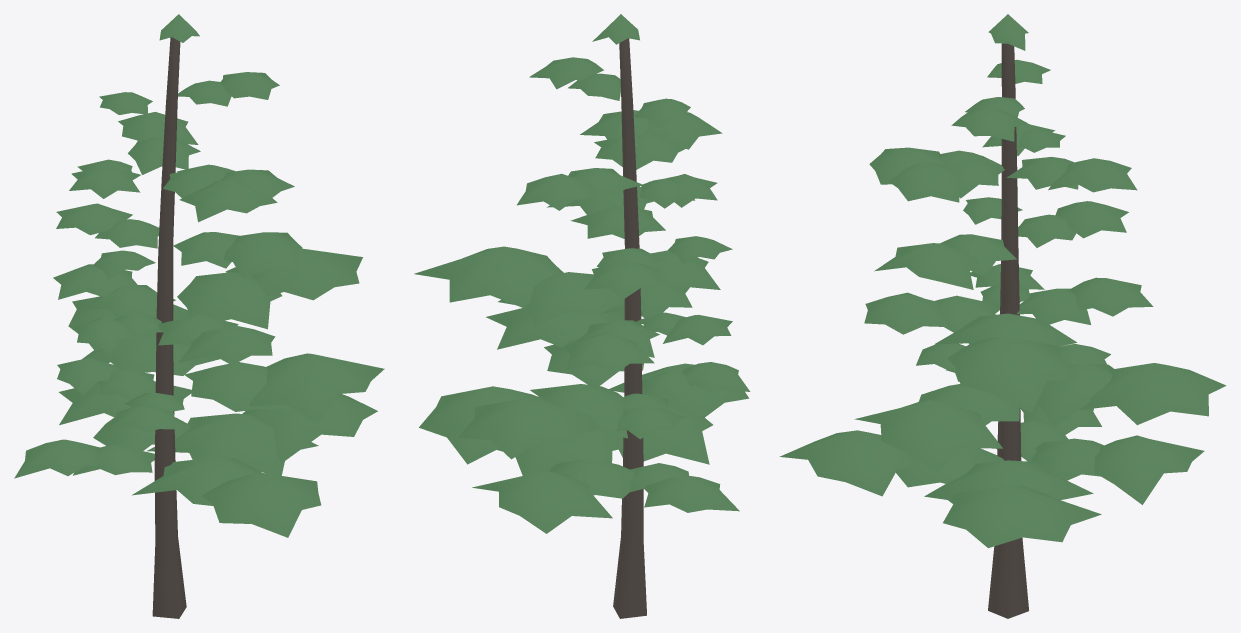
Rendered from Blender_WhitePine_2_Far.glb.
3 views of the same model, side by side, from view 1: azimuth 30°, elevation 25°; view 2: azimuth 150°, elevation 25°; view 3: azimuth 270°, elevation 25° (orthographic).
Visible parts, largest first — view 1: Blender_WhitePine_2_Far; view 2: Blender_WhitePine_2_Far; view 3: Blender_WhitePine_2_Far.
Part boxes in pixels (left/top/right/bottom): Blender_WhitePine_2_Far: left=14, top=14, right=384, bottom=618; Blender_WhitePine_2_Far: left=414, top=14, right=750, bottom=618; Blender_WhitePine_2_Far: left=779, top=14, right=1226, bottom=618.
Size of the model in its own units: 14.75 by 24.85 by 16.74.
